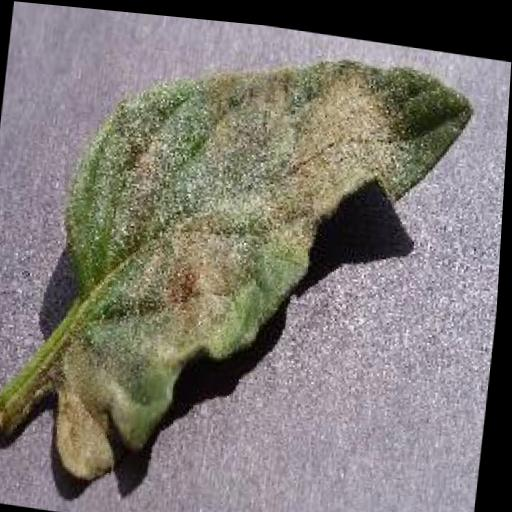Late Blight: (40, 20, 477, 512)
